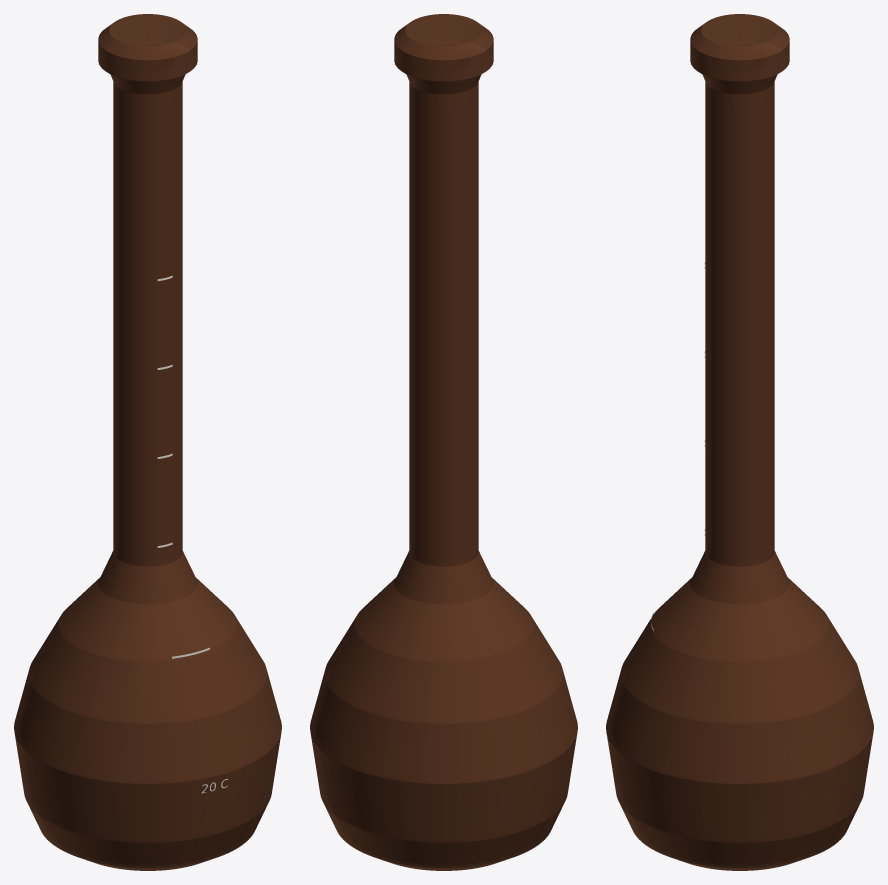
The model's file is preview.glb.
The picture shows the model from 3 angles, left to right: view 1: azimuth 30°, elevation 25°; view 2: azimuth 150°, elevation 25°; view 3: azimuth 270°, elevation 25°; orthographic projection.
Parts seen in each view (by area): view 1: Vessel_Vessel, Closure_Closure; view 2: Vessel_Vessel, Closure_Closure; view 3: Vessel_Vessel, Closure_Closure.
Part boxes in pixels (bbox=[...]): Vessel_Vessel: bbox=[14, 74, 281, 870]; Closure_Closure: bbox=[98, 14, 197, 81]; Vessel_Vessel: bbox=[310, 74, 577, 870]; Closure_Closure: bbox=[394, 14, 493, 81]; Vessel_Vessel: bbox=[606, 74, 873, 870]; Closure_Closure: bbox=[690, 14, 789, 81].
Size of the model in its own units: 0.054 by 0.179 by 0.054.
